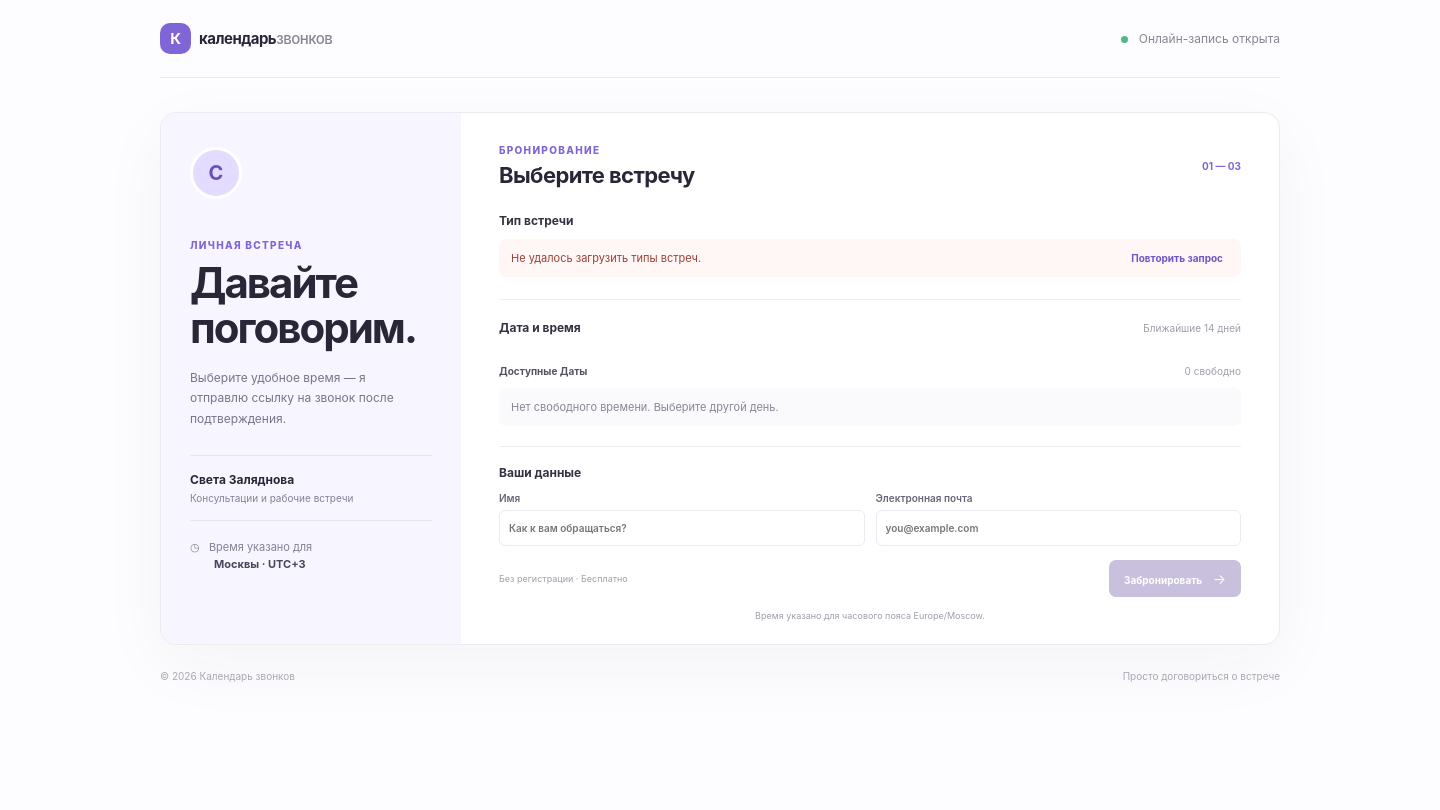
Test: booking application routes › shows an error and retries the meeting-types request
expect the message "Не удалось загрузить типы встреч." is shown: met, box [511,251,701,265]
Click the button "Повторить запрос" at (1177, 258), box [1125,251,1229,265]
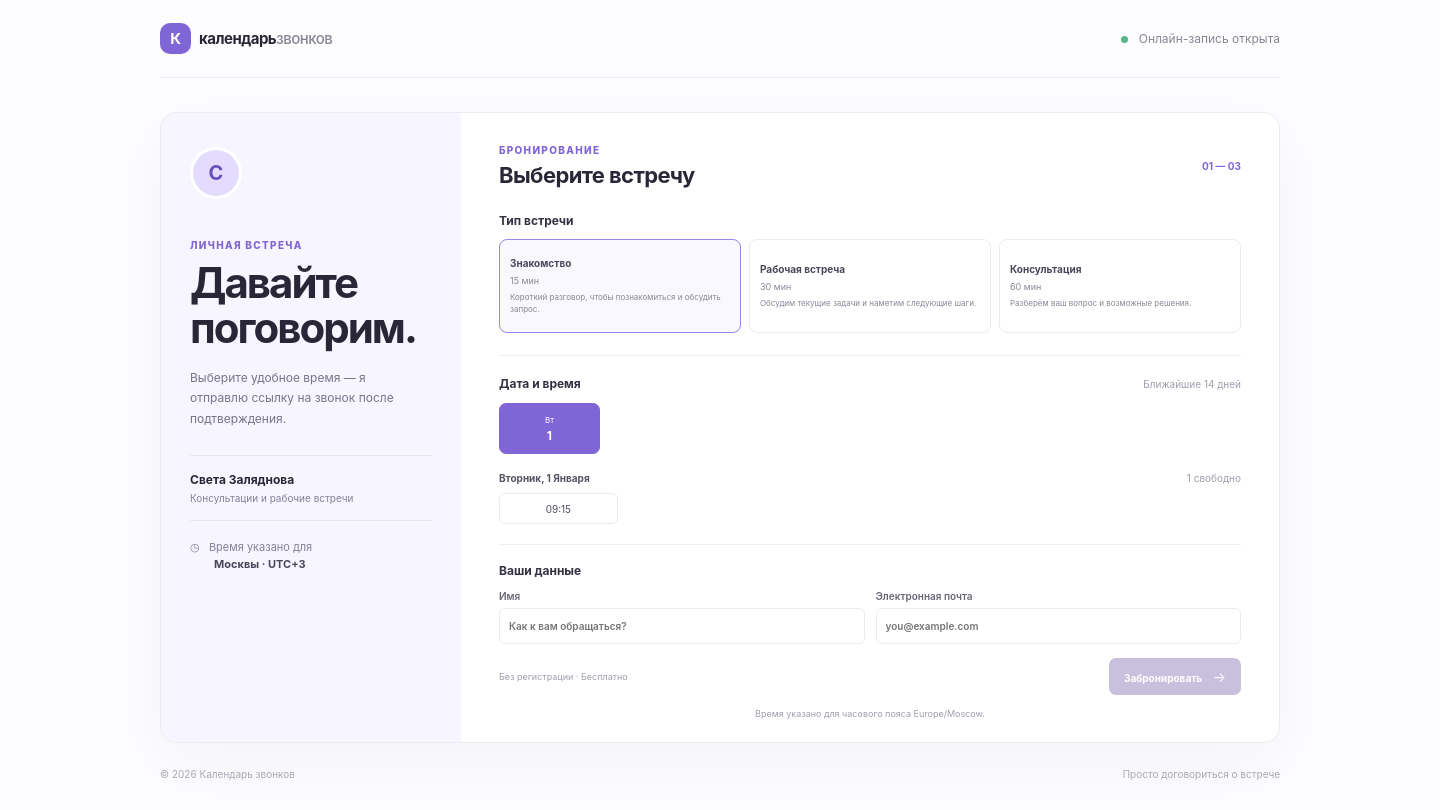
expect the button "Знакомство" is shown: met, box [499,239,741,333]
